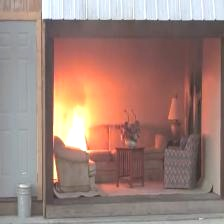fire: (49, 88, 92, 140)
